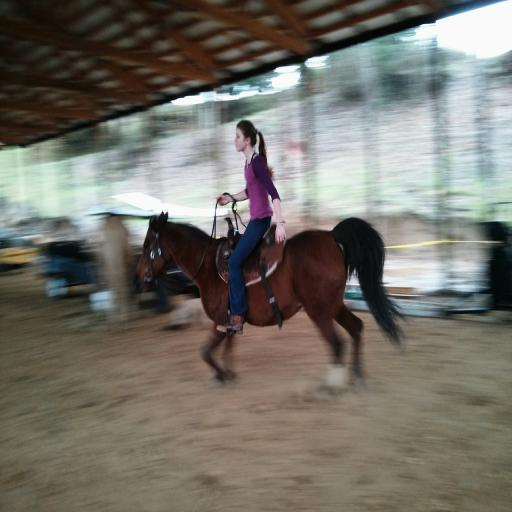Horse: (133, 208, 408, 399)
